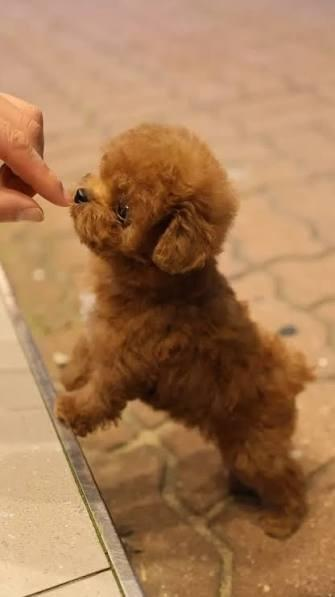puppy-dog: (52, 123, 321, 540)
